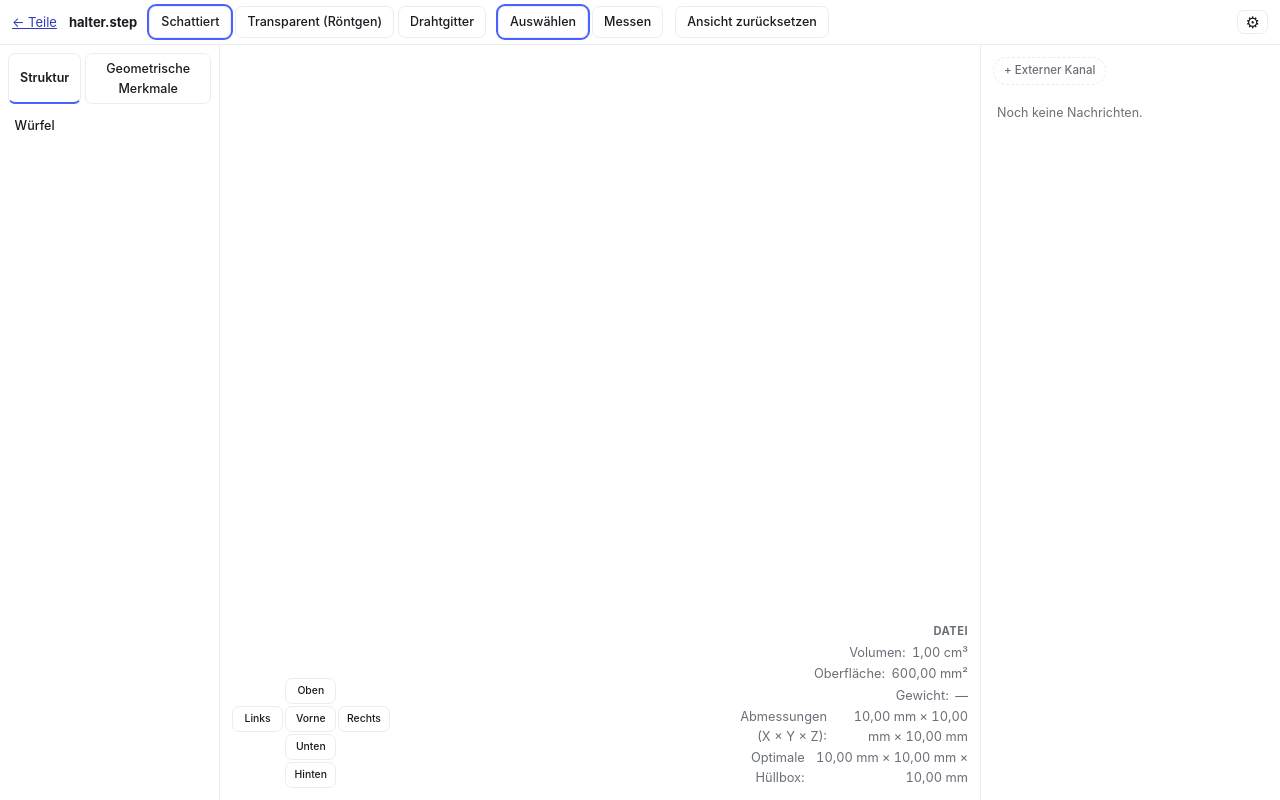
Test case: CadViewerPage — display options (M2.9 gear) › keeps the gear popover closed until the gear is clicked
Expected: the button "Würfel" is shown, x1=8 y1=112 x2=211 y2=140
Expected: the button "Imperial (in)" is not shown
Click the button named "Anzeigeoptionen" at x=1253, y=22, box x1=1237 y1=10 x2=1268 y2=34
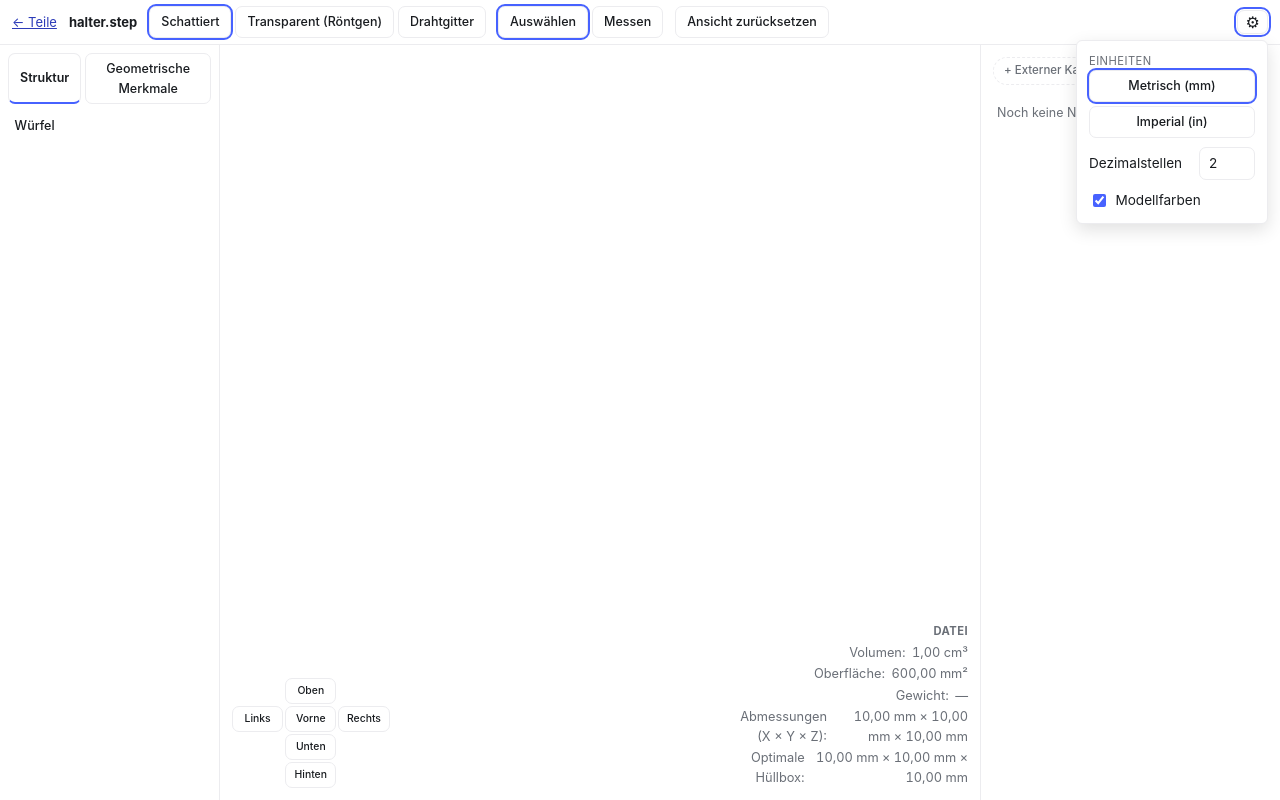
Expected: the button "Imperial (in)" is shown, x1=1089 y1=106 x2=1255 y2=138
